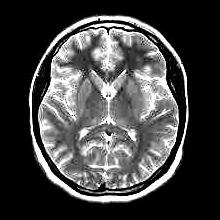Normal_Brain: (1, 2, 220, 220)
